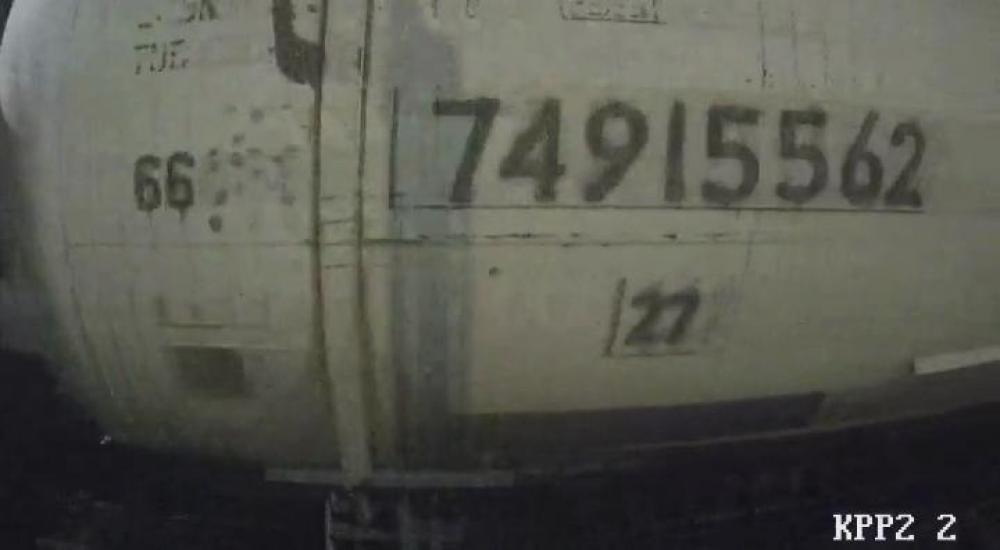Wagon-number: (426, 84, 927, 211)
